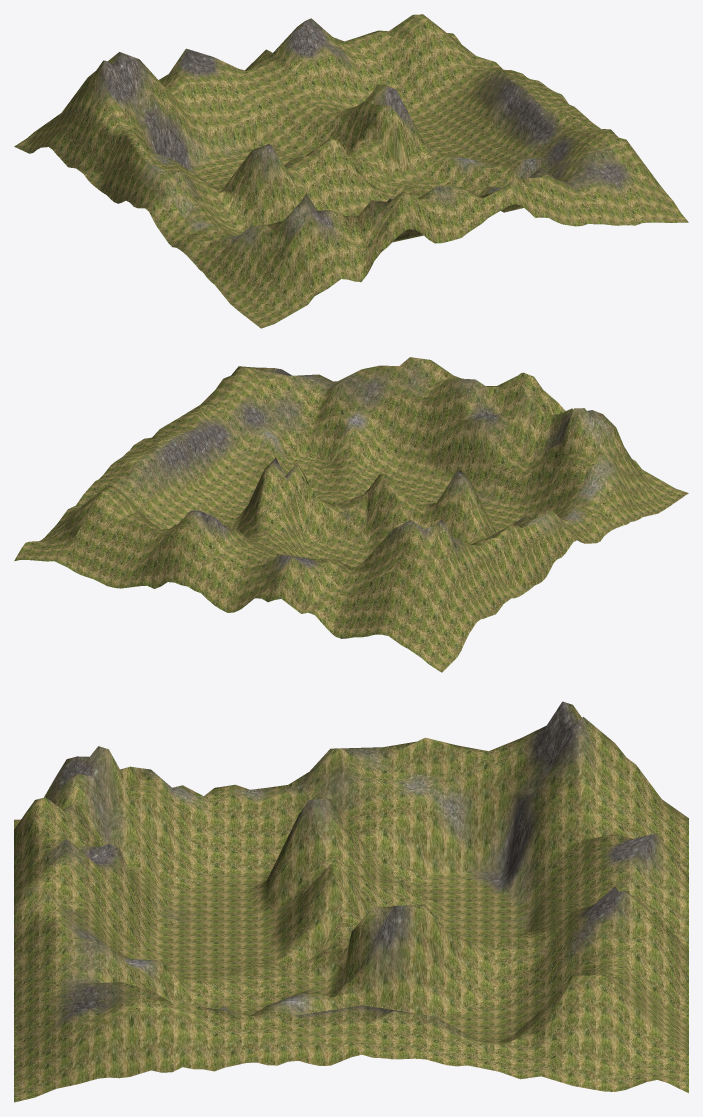
The picture shows the model from 3 angles, top to bottom: view 1: azimuth 30°, elevation 25°; view 2: azimuth 150°, elevation 25°; view 3: azimuth 270°, elevation 25°; orthographic projection. The views are drawn at different scales.
Visible parts, largest first — view 1: Mesh; view 2: Mesh; view 3: Mesh.
Boxes of the visible parts, box(x1,y1,x2,y2) form: Mesh: box(14, 14, 688, 328); Mesh: box(14, 357, 688, 672); Mesh: box(14, 701, 688, 1102).
Size of the model in its own units: 200 by 48.91 by 200.
Materials: 1 (1 with a texture image).
